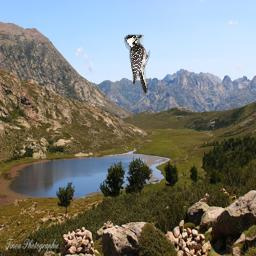Woodpecker: (123, 34, 152, 95)
